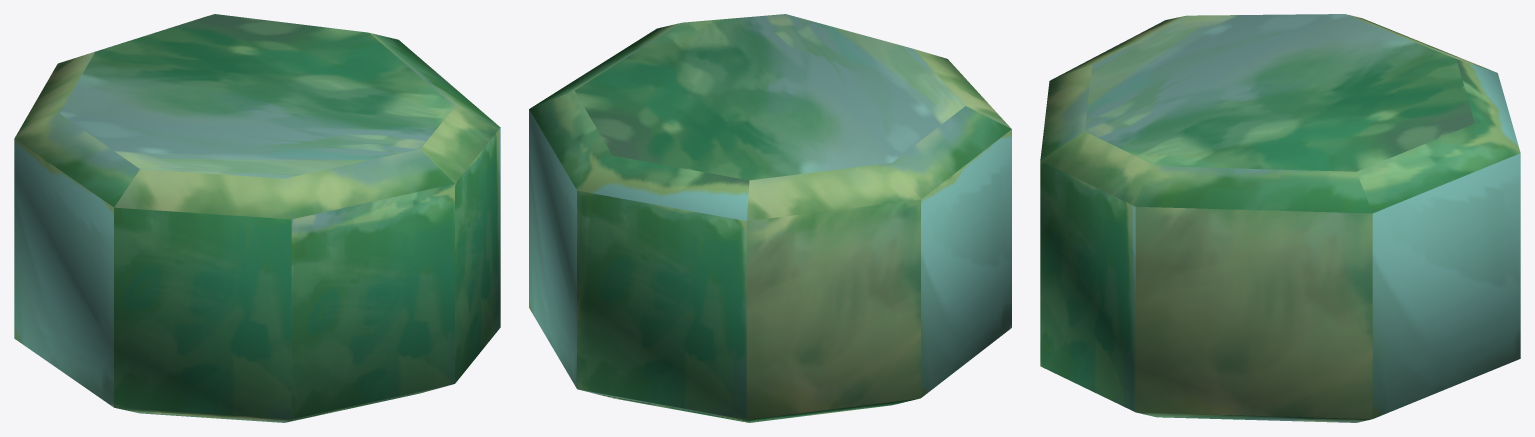
The model's file is emerald.fbx.
3 views of the same model, side by side, from view 1: azimuth 30°, elevation 25°; view 2: azimuth 150°, elevation 25°; view 3: azimuth 270°, elevation 25° (orthographic). The views are drawn at different scales.
Parts seen in each view (by area): view 1: emerald; view 2: emerald; view 3: emerald.
Boxes of the visible parts, left/top/right/bottom form: emerald: left=14, top=14, right=500, bottom=422; emerald: left=529, top=14, right=1011, bottom=422; emerald: left=1040, top=14, right=1520, bottom=422.
Size of the model in its own units: 39.11 by 23.45 by 40.65.
